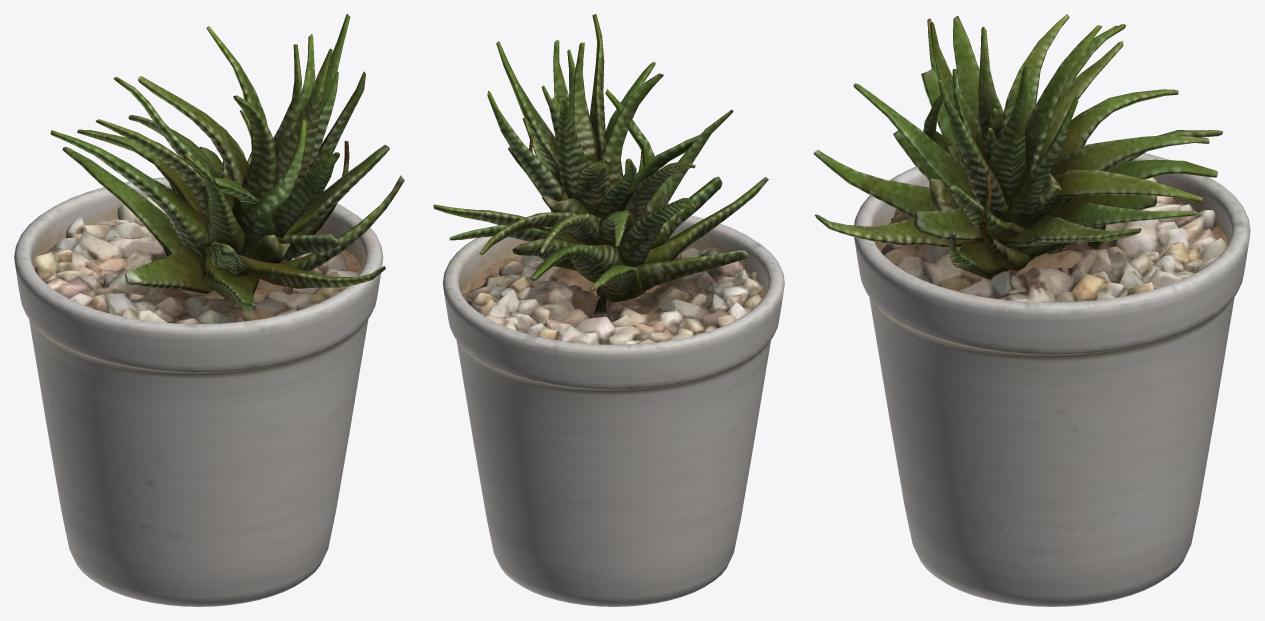
File: potted_plant_3.glb
The picture shows the model from 3 angles, left to right: view 1: azimuth 30°, elevation 25°; view 2: azimuth 150°, elevation 25°; view 3: azimuth 270°, elevation 25°; orthographic projection. The views are drawn at different scales.
Parts seen in each view (by area): view 1: potted_plant_04_pot, potted_plant_04_plant, potted_plant_04_ground, potted_plant_04_dirt; view 2: potted_plant_04_pot, potted_plant_04_plant, potted_plant_04_ground, potted_plant_04_dirt; view 3: potted_plant_04_pot, potted_plant_04_plant, potted_plant_04_ground, potted_plant_04_dirt.
Part boxes in pixels (left/top/right/bottom): potted_plant_04_pot: left=14, top=177, right=383, bottom=606; potted_plant_04_plant: left=50, top=14, right=404, bottom=311; potted_plant_04_ground: left=34, top=196, right=357, bottom=323; potted_plant_04_dirt: left=34, top=238, right=362, bottom=307; potted_plant_04_pot: left=443, top=215, right=784, bottom=606; potted_plant_04_plant: left=433, top=14, right=768, bottom=314; potted_plant_04_ground: left=463, top=247, right=765, bottom=344; potted_plant_04_dirt: left=462, top=247, right=765, bottom=306; potted_plant_04_pot: left=854, top=144, right=1250, bottom=606; potted_plant_04_plant: left=813, top=14, right=1222, bottom=279; potted_plant_04_ground: left=881, top=177, right=1227, bottom=302; potted_plant_04_dirt: left=875, top=200, right=1228, bottom=297.
Bounding box in the file's own units: 0.1679 × 0.2675 × 0.1848.
1 material, 1 textured.
